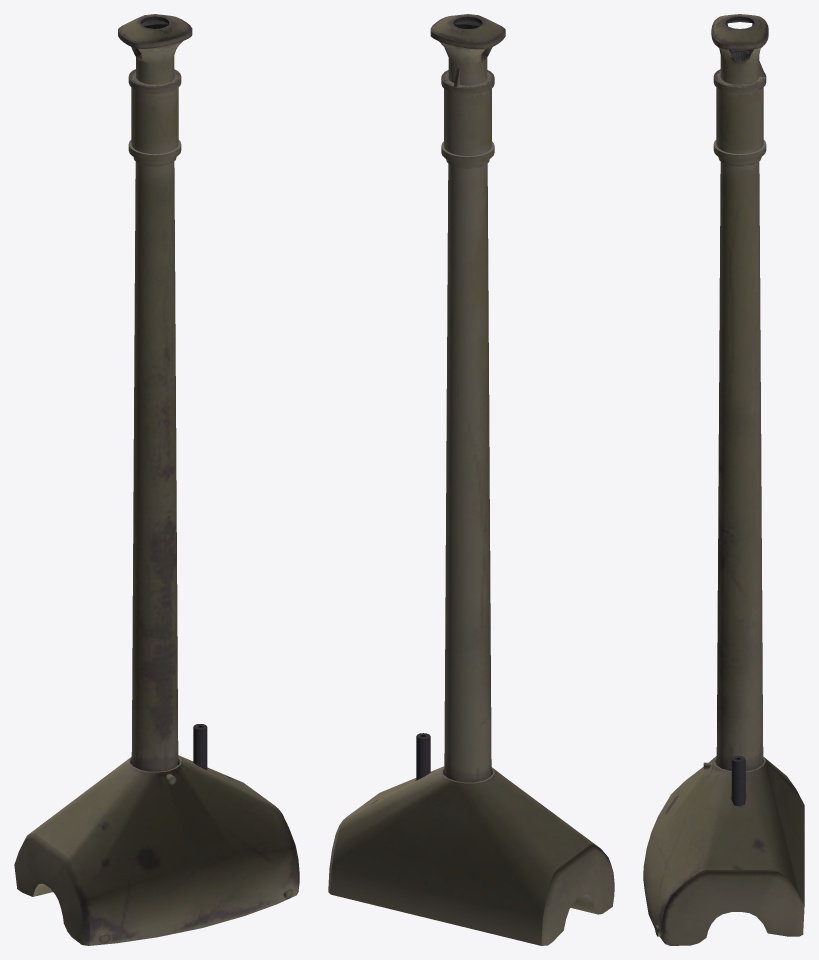
The model's file is Gun_05.glb.
The picture shows the model from 3 angles, left to right: view 1: azimuth 30°, elevation 25°; view 2: azimuth 150°, elevation 25°; view 3: azimuth 270°, elevation 25°; orthographic projection.
Visible parts, largest first — view 1: set_0_group_0; view 2: set_0_group_0; view 3: set_0_group_0.
Part boxes in pixels (x1,y1,x2,y2): set_0_group_0: (14, 14, 299, 945); set_0_group_0: (328, 14, 614, 945); set_0_group_0: (643, 14, 804, 945).
Bounding box in the file's own units: 0.9304 × 3.53 × 0.593.
Materials: 1 (1 with a texture image).
